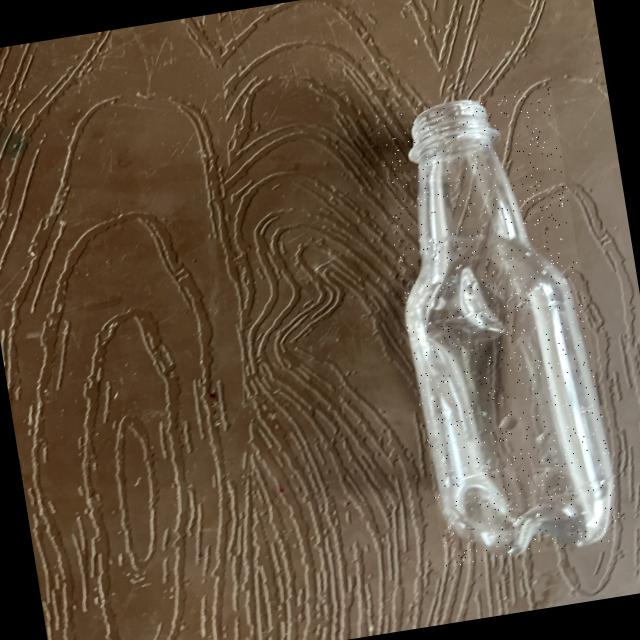PET_With_Liquid: (407, 101, 613, 552)
